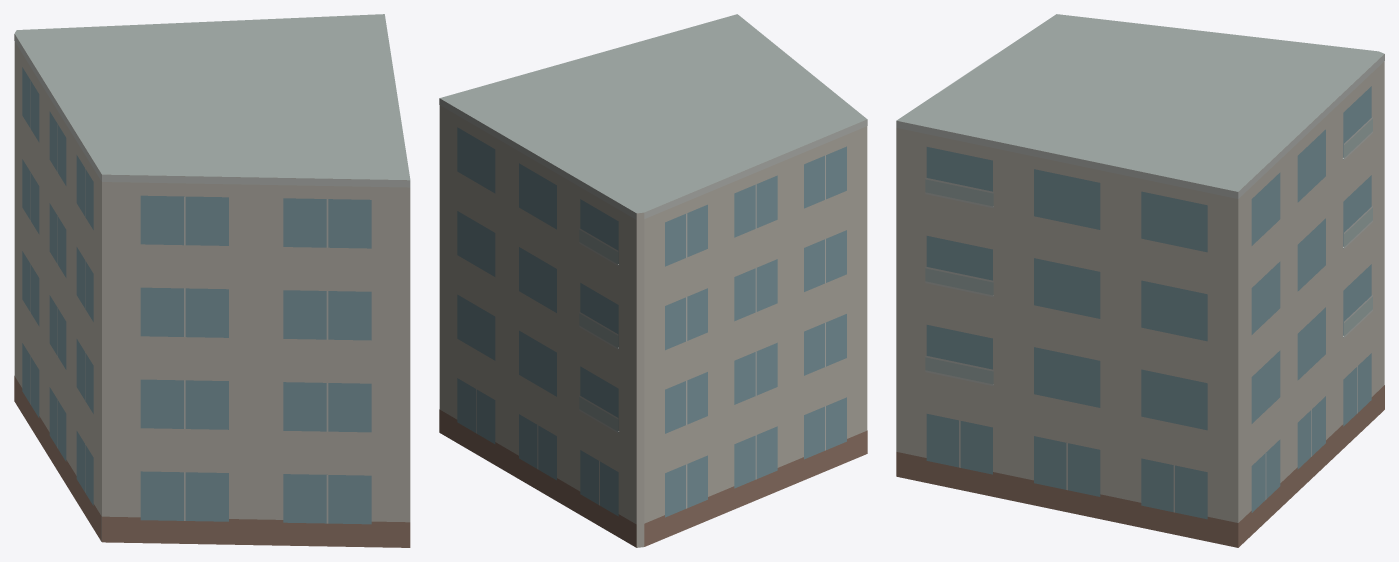
File: survey-upis-32781288.glb
The picture shows the model from 3 angles, left to right: view 1: azimuth 30°, elevation 25°; view 2: azimuth 150°, elevation 25°; view 3: azimuth 270°, elevation 25°; orthographic projection. The views are drawn at different scales.
Parts seen in each view (by area): view 1: survey-upis-32781288.tmp; view 2: survey-upis-32781288.tmp; view 3: survey-upis-32781288.tmp.
Part boxes in pixels (x1,y1,x2,y2): survey-upis-32781288.tmp: (14,14,410,547); survey-upis-32781288.tmp: (439,14,867,547); survey-upis-32781288.tmp: (896,14,1384,547).
Bounding box in the file's own units: 13.09 × 12.2 × 15.18.
